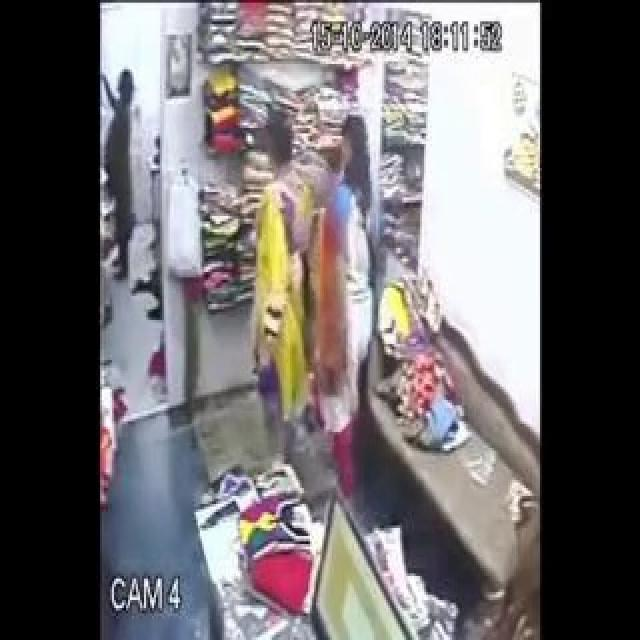Shoplifting: (311, 105, 407, 460)
